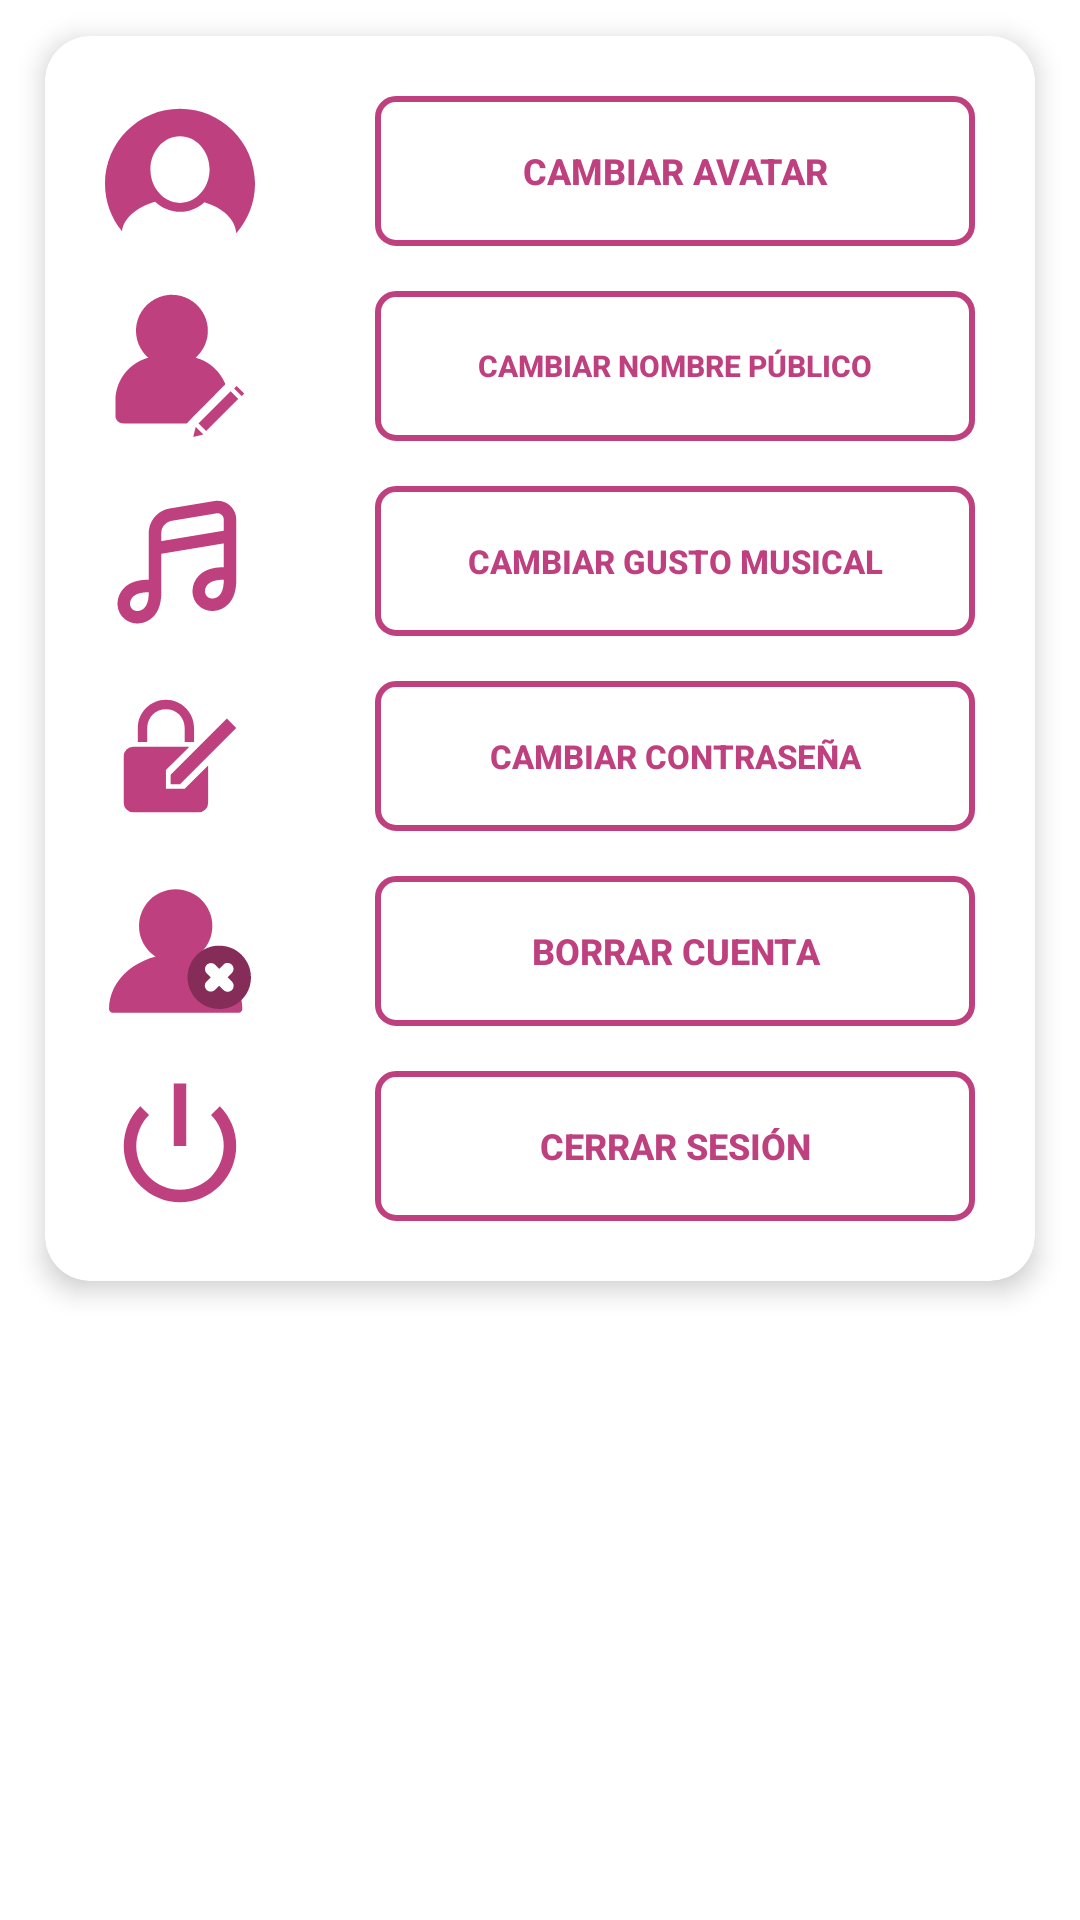

Icons on this 1080 × 1920 Android screen, each with the point to tap as (x=x, y=y):
change pass: (x=179, y=756)
disconnect: (x=180, y=1143)
musicnote: (x=177, y=562)
user delete: (x=180, y=951)
userediticon: (x=179, y=365)
